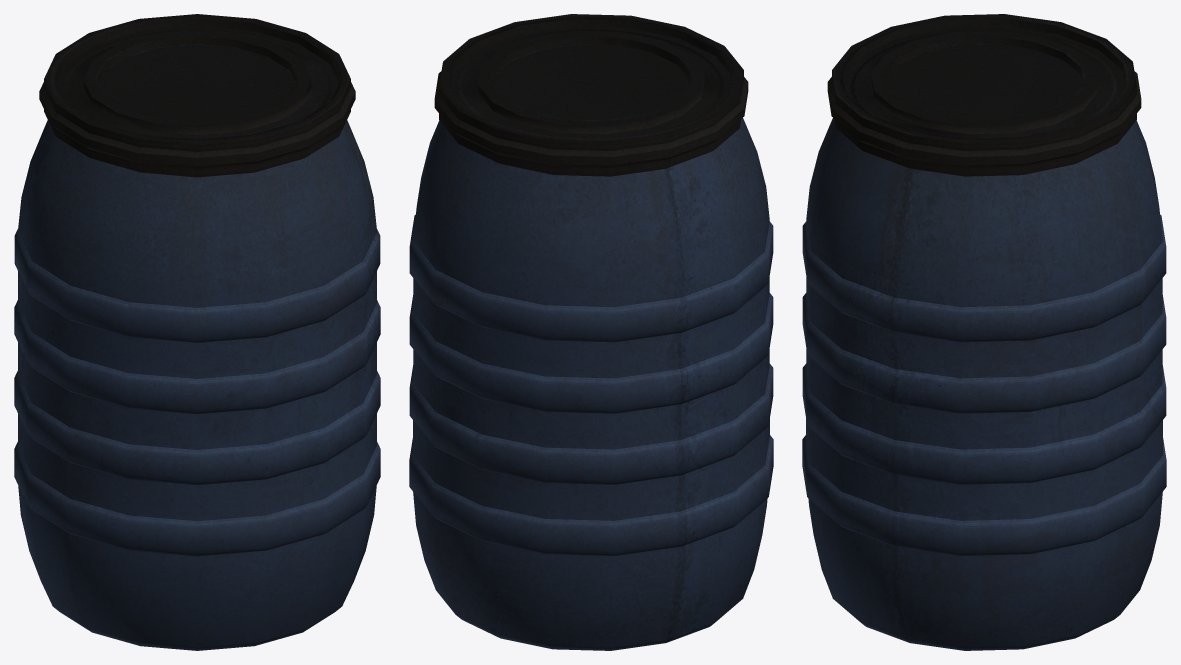
Rendered from water_barrel_1.glb.
3 renders of one model, left to right at view 1: azimuth 30°, elevation 25°; view 2: azimuth 150°, elevation 25°; view 3: azimuth 270°, elevation 25°, orthographic.
Parts seen in each view (by area): view 1: water_barrel_1; view 2: water_barrel_1; view 3: water_barrel_1.
Boxes of the visible parts, left/top/right/bottom form: water_barrel_1: left=14, top=14, right=380, bottom=650; water_barrel_1: left=409, top=14, right=773, bottom=650; water_barrel_1: left=802, top=14, right=1166, bottom=650.
Bounding box in the file's own units: 0.7271 × 1.12 × 0.7271.
1 material, 1 textured.
